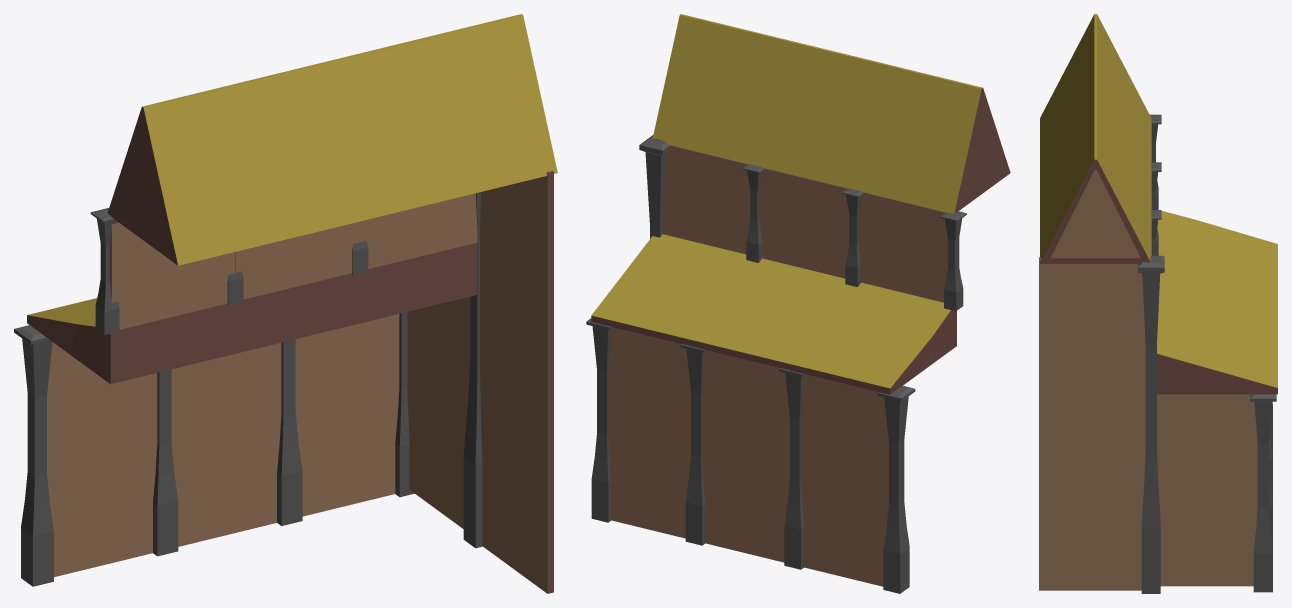
Rendered from Church_Collision_Test2.fbx.
3 renders of one model, left to right at view 1: azimuth 30°, elevation 25°; view 2: azimuth 150°, elevation 25°; view 3: azimuth 270°, elevation 25°, orthographic. The views are drawn at different scales.
Parts seen in each view (by area): view 1: Intact_Piece_19, Intact_Piece_17, Intact_Piece_18, polySurface55, polySurface52, polySurface54, polySurface31, Piece9 (×3), polySurface61, polySurface29, polySurface27, Piece24 (+18 smaller); view 2: Intact_Piece_17, Intact_Piece_18, Intact_Piece_19, Piece3 (×2), polySurface55, polySurface52, polySurface54, Piece (×3), polySurface61, Piece11 (×3), Piece35, polySurface30 (+29 smaller); view 3: Intact_Piece_19, Piece24, Intact_Piece_17, Intact_Piece_18, Piece3, Piece25, polySurface52, Piece21, polySurface50, Piece23, Piece22, Piece26 (+20 smaller).
Boxes of the visible parts, bbox=[...] form: Intact_Piece_19: bbox=[277, 16, 557, 525]; Intact_Piece_17: bbox=[14, 77, 302, 586]; Intact_Piece_18: bbox=[153, 47, 425, 556]; polySurface55: bbox=[121, 76, 293, 225]; polySurface52: bbox=[390, 14, 548, 163]; polySurface54: bbox=[267, 46, 415, 193]; polySurface31: bbox=[70, 303, 235, 384]; Piece9 (×3): bbox=[157, 196, 477, 320]; polySurface61: bbox=[107, 178, 303, 265]; polySurface29: bbox=[235, 273, 358, 353]; polySurface27: bbox=[358, 242, 476, 323]; Piece24: bbox=[504, 238, 553, 557]; Intact_Piece_17: bbox=[791, 65, 1008, 593]; Intact_Piece_18: bbox=[693, 41, 880, 569]; Intact_Piece_19: bbox=[587, 15, 783, 545]; Piece3 (×2): bbox=[732, 397, 888, 551]; polySurface55: bbox=[864, 63, 1003, 170]; polySurface52: bbox=[661, 14, 785, 122]; polySurface54: bbox=[766, 39, 882, 146]; Piece (×3): bbox=[685, 473, 883, 586]; polySurface61: bbox=[854, 147, 1010, 213]; Piece11 (×3): bbox=[699, 178, 947, 283]; Piece35: bbox=[633, 373, 690, 502]; polySurface30: bbox=[790, 333, 932, 394]; Intact_Piece_19: bbox=[1039, 110, 1277, 593]; Piece24: bbox=[1039, 334, 1114, 563]; Intact_Piece_17: bbox=[1040, 14, 1277, 444]; Intact_Piece_18: bbox=[1040, 63, 1277, 338]; Piece3: bbox=[1157, 434, 1223, 561]; Piece25: bbox=[1039, 477, 1122, 590]; polySurface52: bbox=[1054, 109, 1132, 237]; Piece21: bbox=[1039, 257, 1104, 344]; polySurface50: bbox=[1040, 178, 1151, 263]; Piece23: bbox=[1104, 345, 1145, 476]; Piece22: bbox=[1098, 257, 1151, 352]; Piece26: bbox=[1114, 441, 1145, 590].
Bounding box in the file's own units: 9.71 × 12.75 × 6.37.
